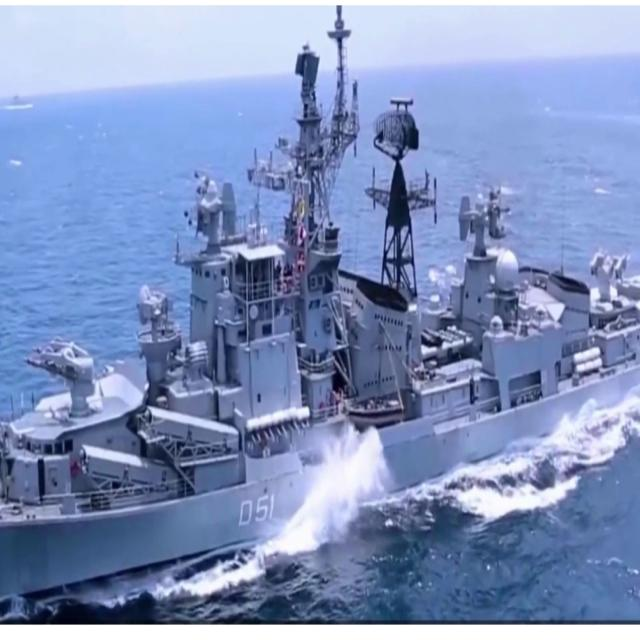OCR: (228, 484, 278, 536)
